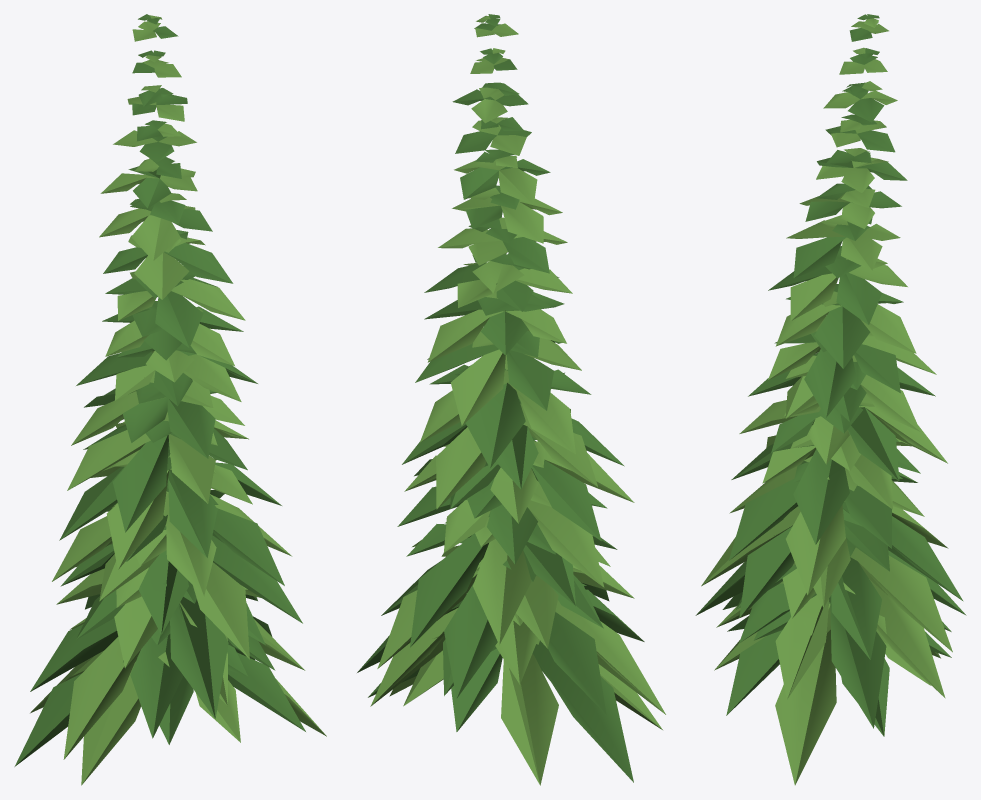
File: rodfx-cedar.glb
The picture shows the model from 3 angles, left to right: view 1: azimuth 30°, elevation 25°; view 2: azimuth 150°, elevation 25°; view 3: azimuth 270°, elevation 25°; orthographic projection. The views are drawn at different scales.
Parts seen in each view (by area): view 1: Leaves; view 2: Leaves; view 3: Leaves.
Part boxes in pixels (x1=…): Leaves: x1=14, y1=14, x2=326, y2=785; Leaves: x1=357, y1=14, x2=665, y2=785; Leaves: x1=695, y1=14, x2=966, y2=785.
Size of the model in its own units: 0.2926 by 0.7337 by 0.257.
